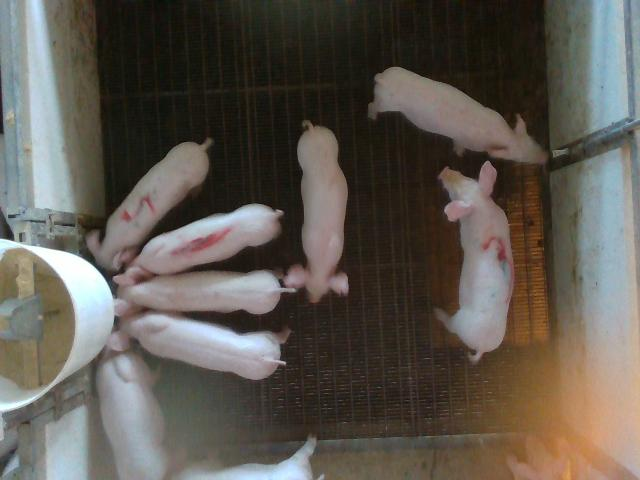pig-1: (131, 204, 284, 274)
pig-3: (435, 161, 514, 363)
pig-5: (86, 138, 212, 271)
